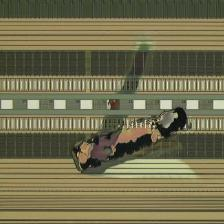PARTICLE: (72, 39, 190, 175)
